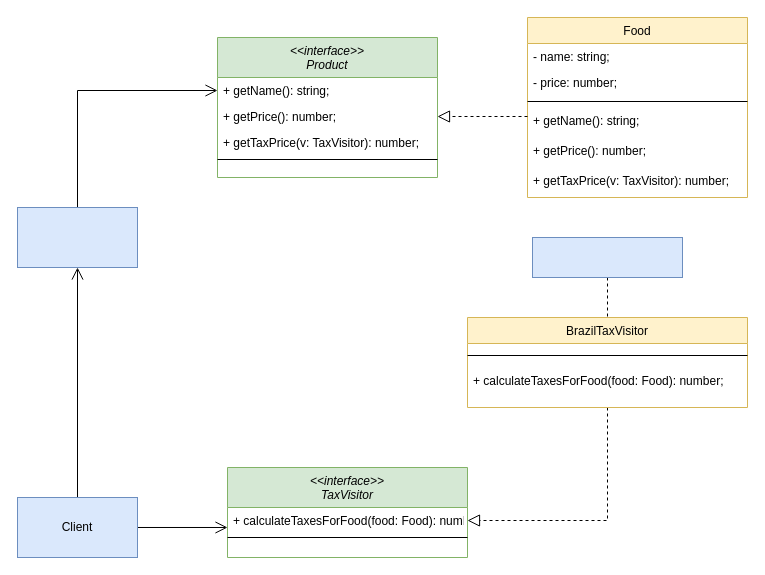
Some shapes in this 765 by 575 pixel diagram are drawn without their labels. The box of each missing label's shape, as (x1, y1, x2, y2) in pixels:
Object Structure: (16, 206, 138, 268)
v.getPriceTax(this);: (532, 236, 682, 278)
